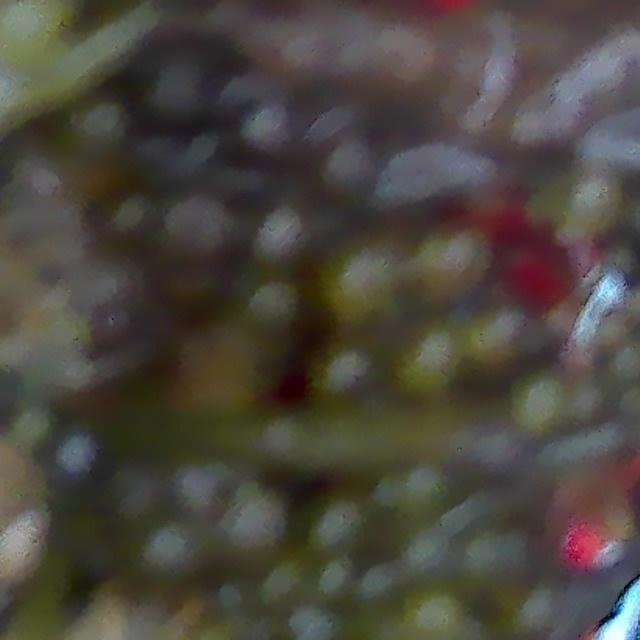SeaGrape: (248, 198, 334, 275), (238, 98, 314, 177), (312, 140, 386, 221), (166, 197, 237, 279), (95, 188, 172, 253)
